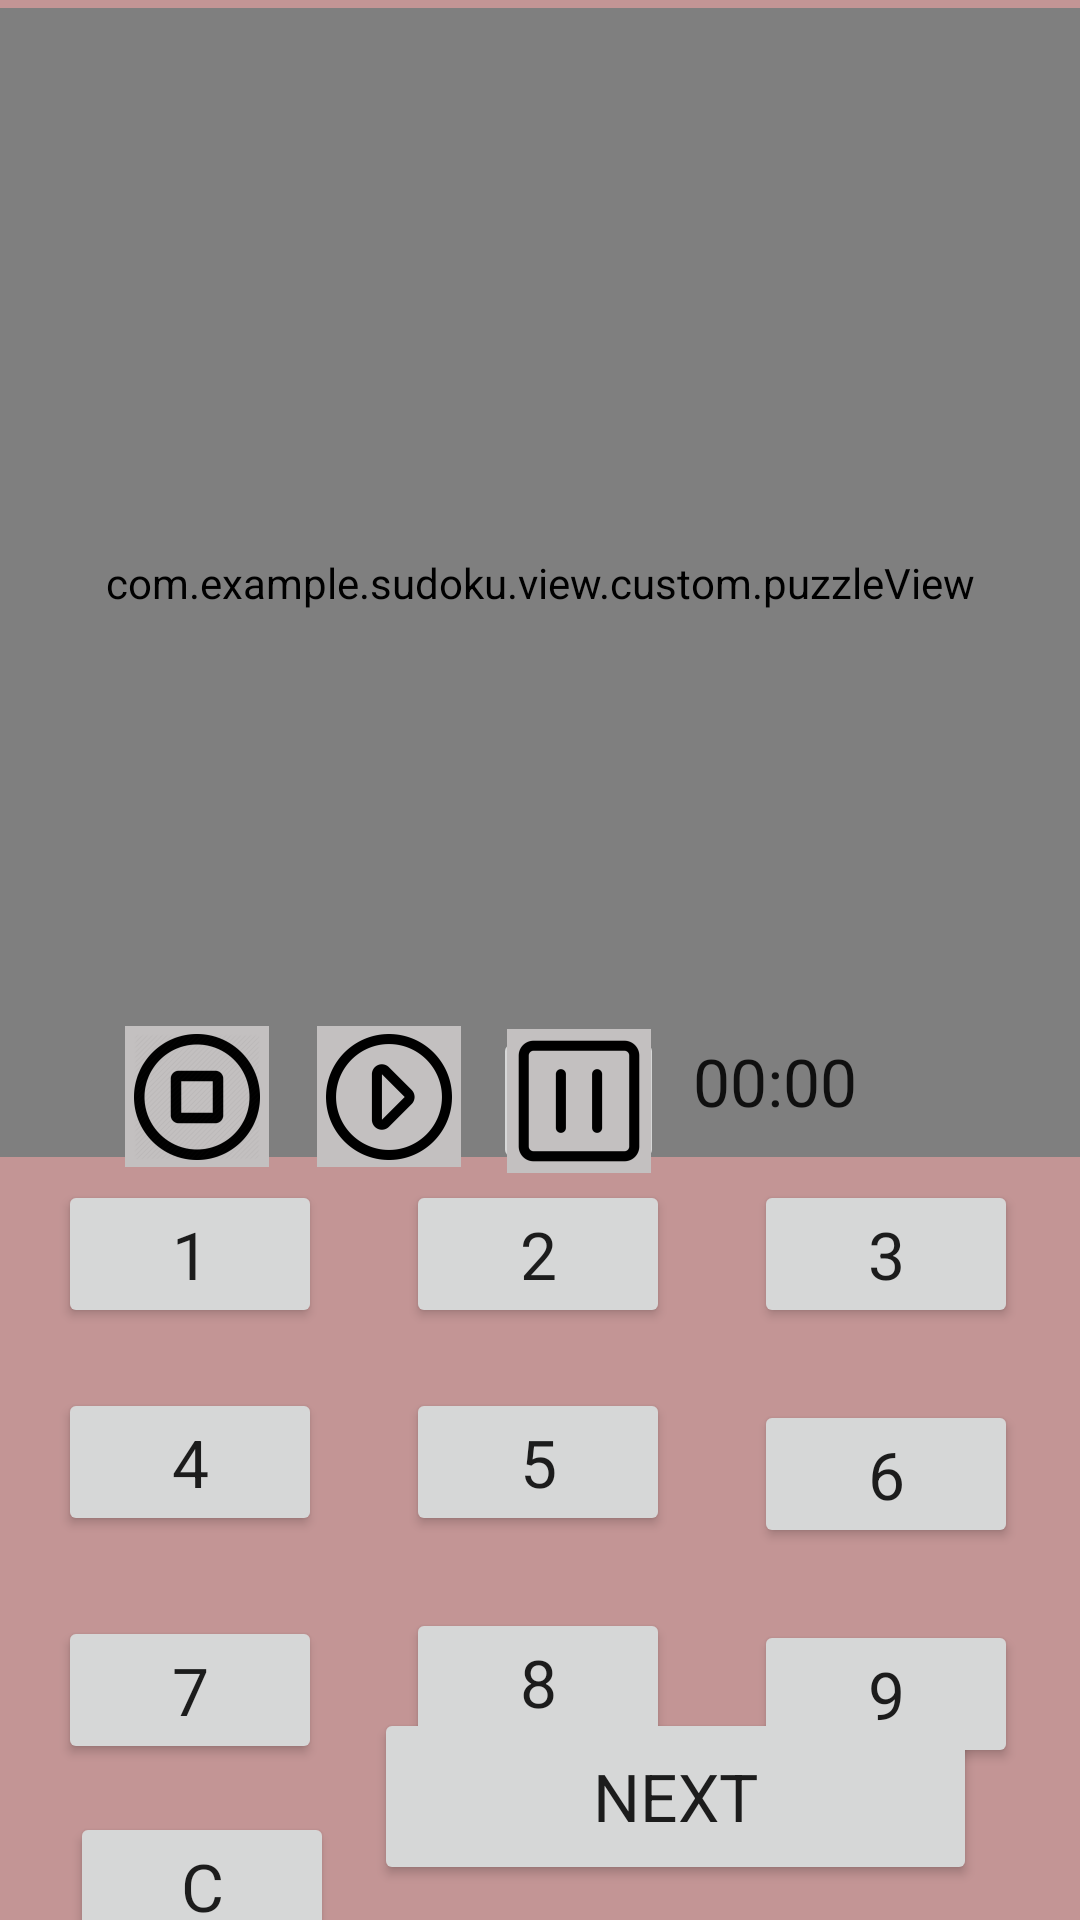

Screen size 1080×1920. Icon name, then its box in pixels as (x1, y1, x2, y2):
pause: (493, 1029, 664, 1174)
start: (308, 1026, 470, 1167)
stop: (116, 1026, 278, 1167)
